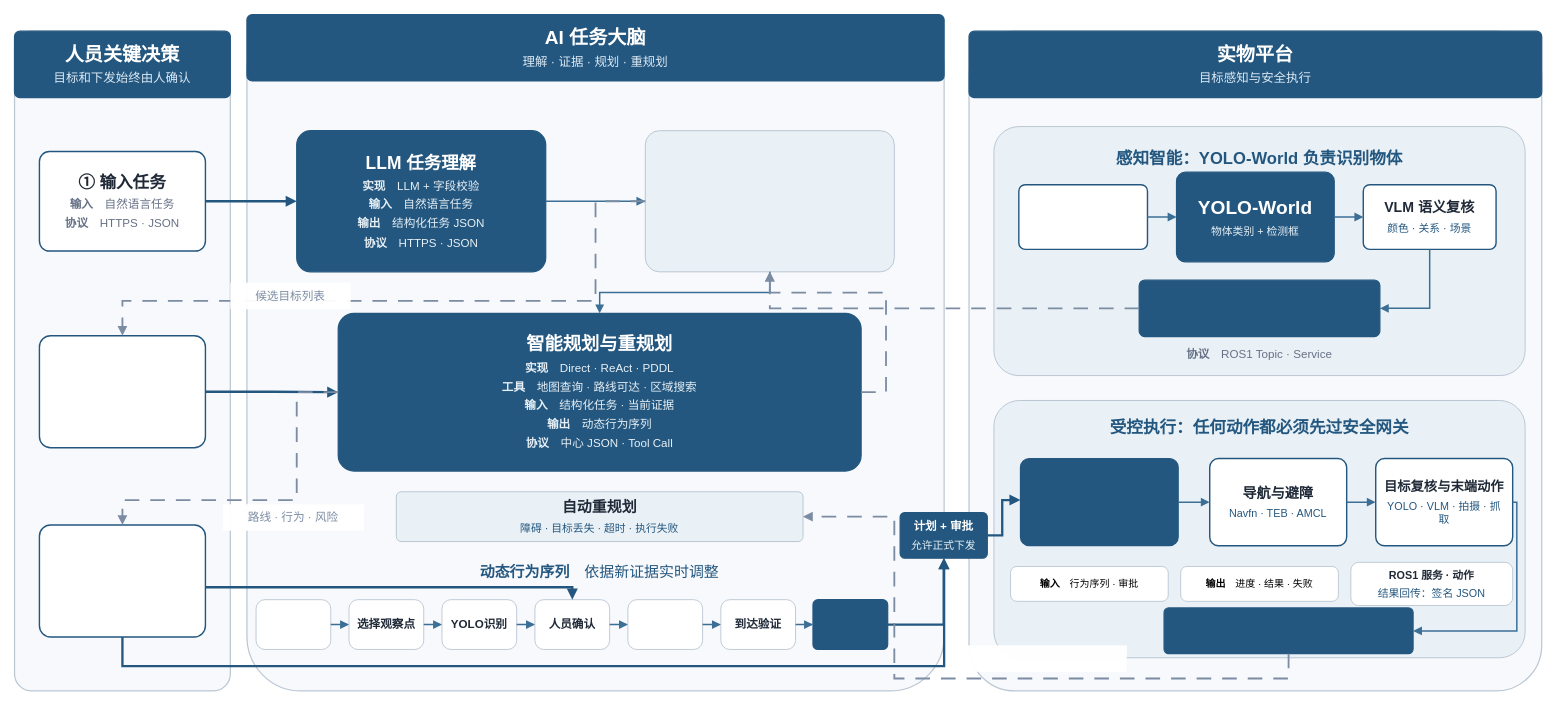
The diagram is 1557 pixels wide and 706 high, and some of its shapes have lost their labels. The shapes that lost their labels are listed below. From the top down, each one's centre as x and y in pixels, then its label:
At [769,201]: "动态世界模型 实现 共享地图 + 任务黑板 输入 识别证据 · 平台状态 输出 当前任务证据 协议 中心内部 JSON".
At [1083,217]: "Camera · LiDAR · Pose 图像 · 激光 · 位姿".
At [1259,308]: "输出 目标候选证据 类别 · 置信度 · 地图坐标 · 图像".
At [122,391]: "② 选择目标 输入 候选目标列表 输出 目标编号与范围 协议 HTTPS · JSON".
At [1098,502]: "平台安全网关 白名单 · 定位 · 电量 · 安全区".
At [122,580]: "③ 最终确认 输入 路线 · 行为 · 风险 输出 审批凭据 协议 HTTPS · JSON".
At [293,624]: "搜索区域".
At [665,624]: "导航接近".
At [850,624]: "拍摄与抓取".
At [1288,630]: "执行结果 成功 · 失败原因 · 可回放事件".
At [1039,658]: "执行反馈触发重规划".
